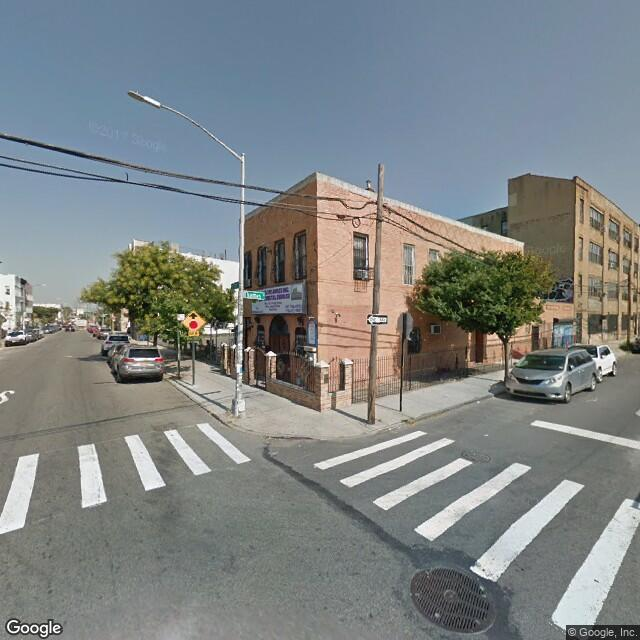litter: (467, 572, 491, 598), (428, 607, 446, 628), (470, 393, 481, 408)
